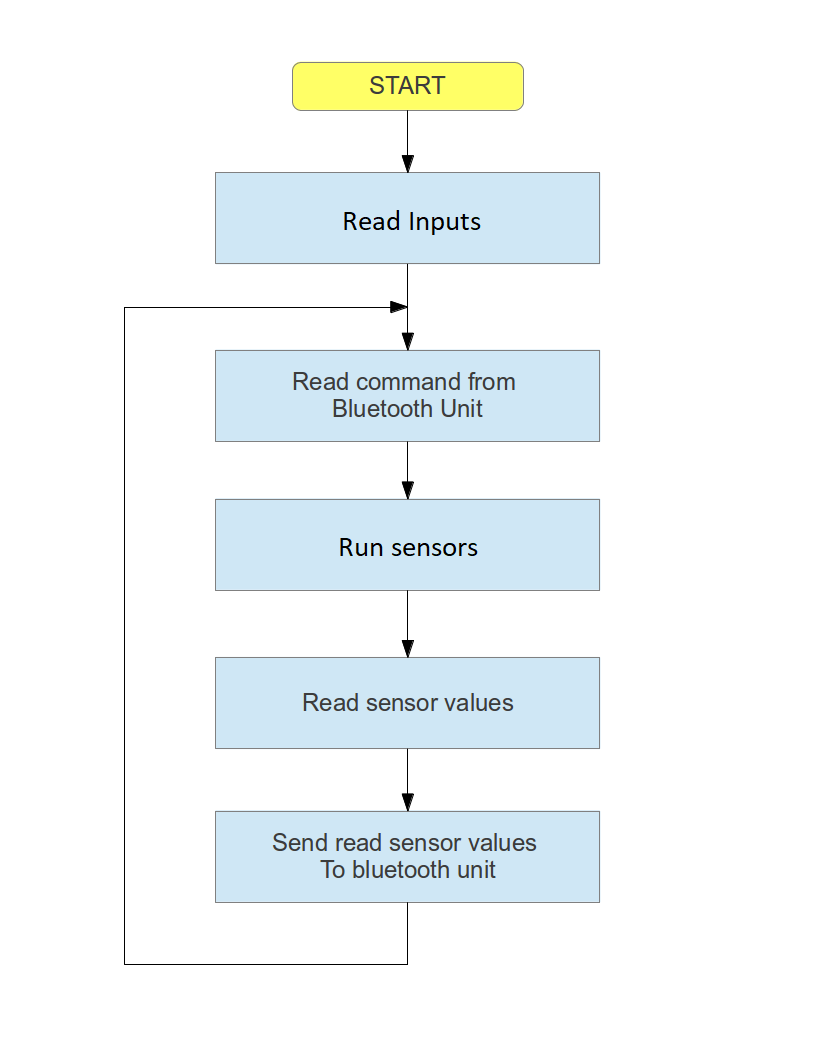arrow: (116, 299, 413, 971), (395, 438, 419, 502), (400, 265, 416, 349), (397, 589, 416, 654), (398, 744, 416, 812), (397, 112, 416, 170)
process: (208, 165, 606, 271), (210, 344, 605, 449), (210, 496, 606, 599), (206, 805, 603, 907), (208, 652, 606, 752), (285, 57, 530, 117)
text: (268, 829, 539, 883), (290, 367, 519, 420), (300, 683, 519, 718), (340, 207, 484, 238), (332, 533, 484, 560), (360, 71, 448, 97)
